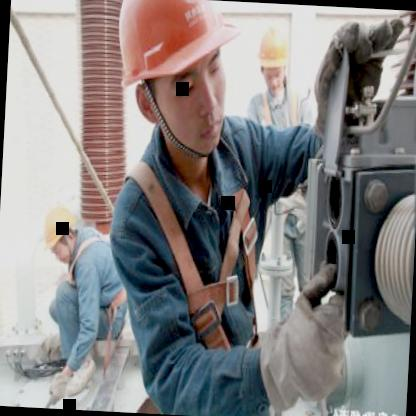helmet: (109, 0, 247, 169), (254, 15, 295, 104), (37, 196, 83, 266)
